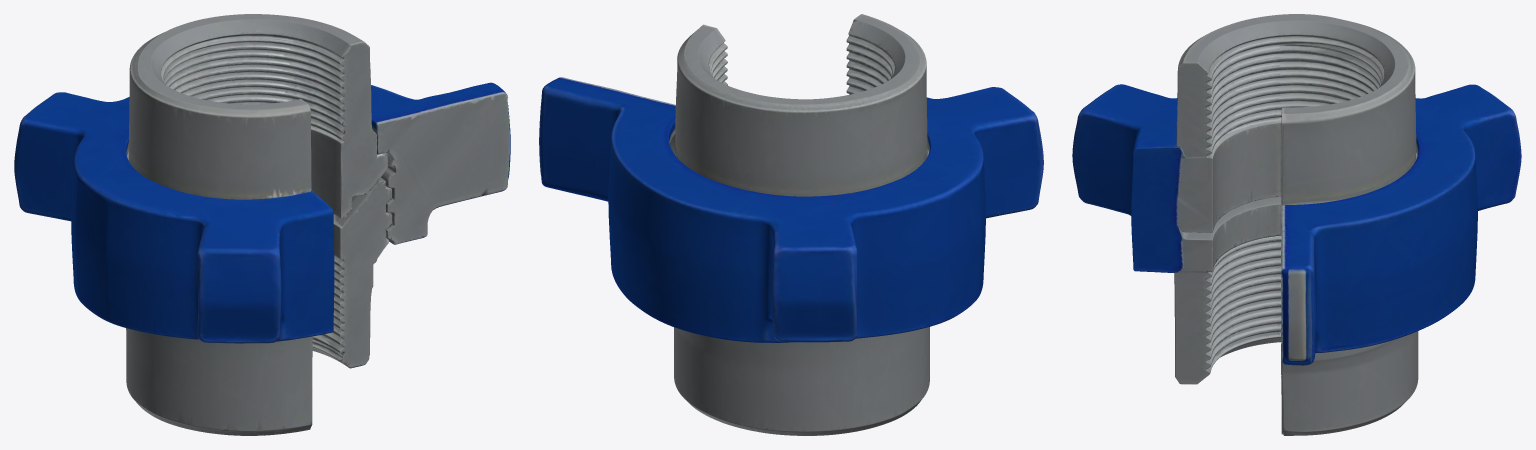
File: UnionDeGolpeFigura206.glb
3 renders of one model, left to right at view 1: azimuth 30°, elevation 25°; view 2: azimuth 150°, elevation 25°; view 3: azimuth 270°, elevation 25°, orthographic. The views are drawn at different scales.
Parts seen in each view (by area): view 1: tripo_node_f485782f-bf25-4792-a0d1-7ae8fd02f8e3; view 2: tripo_node_f485782f-bf25-4792-a0d1-7ae8fd02f8e3; view 3: tripo_node_f485782f-bf25-4792-a0d1-7ae8fd02f8e3.
Boxes of the visible parts, box(x1,y1,x2,y2) form: tripo_node_f485782f-bf25-4792-a0d1-7ae8fd02f8e3: box(14, 14, 510, 435); tripo_node_f485782f-bf25-4792-a0d1-7ae8fd02f8e3: box(539, 14, 1043, 435); tripo_node_f485782f-bf25-4792-a0d1-7ae8fd02f8e3: box(1072, 14, 1521, 435).
Size of the model in its own units: 0.98 by 0.7273 by 0.921.
Materials: 1 (1 with a texture image).
